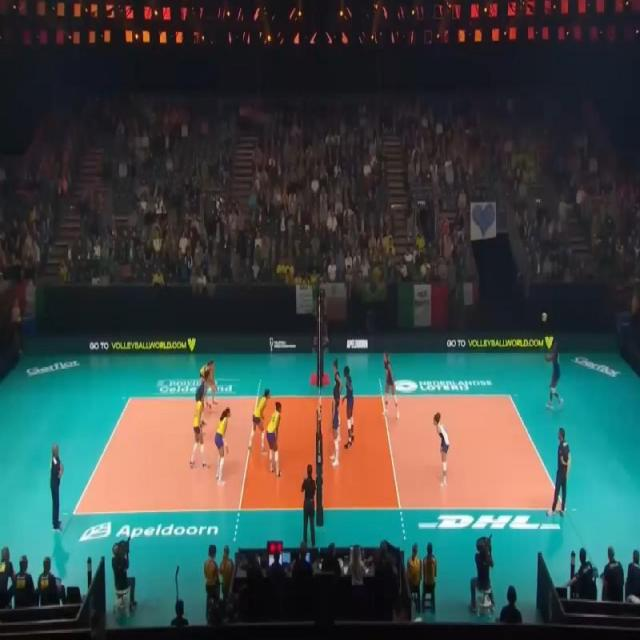volleyball: (542, 312, 548, 322)
